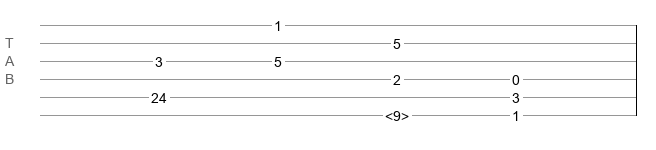0: (512, 72, 520, 82)
1: (274, 18, 282, 28), (512, 108, 520, 118)
2: (393, 72, 401, 82)
24: (151, 90, 167, 100)
3: (155, 54, 163, 64), (512, 90, 520, 100)
5: (274, 54, 282, 64), (393, 36, 401, 46)
harmonic: (385, 108, 409, 118)
